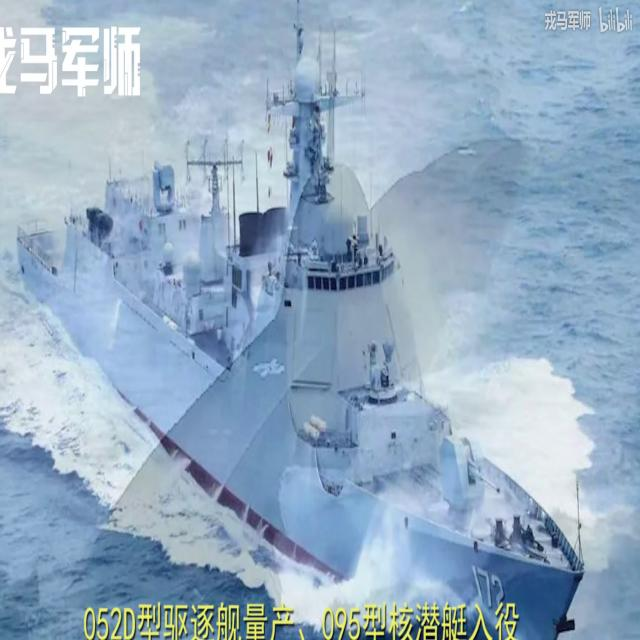navalvessels: (19, 62, 584, 640)
